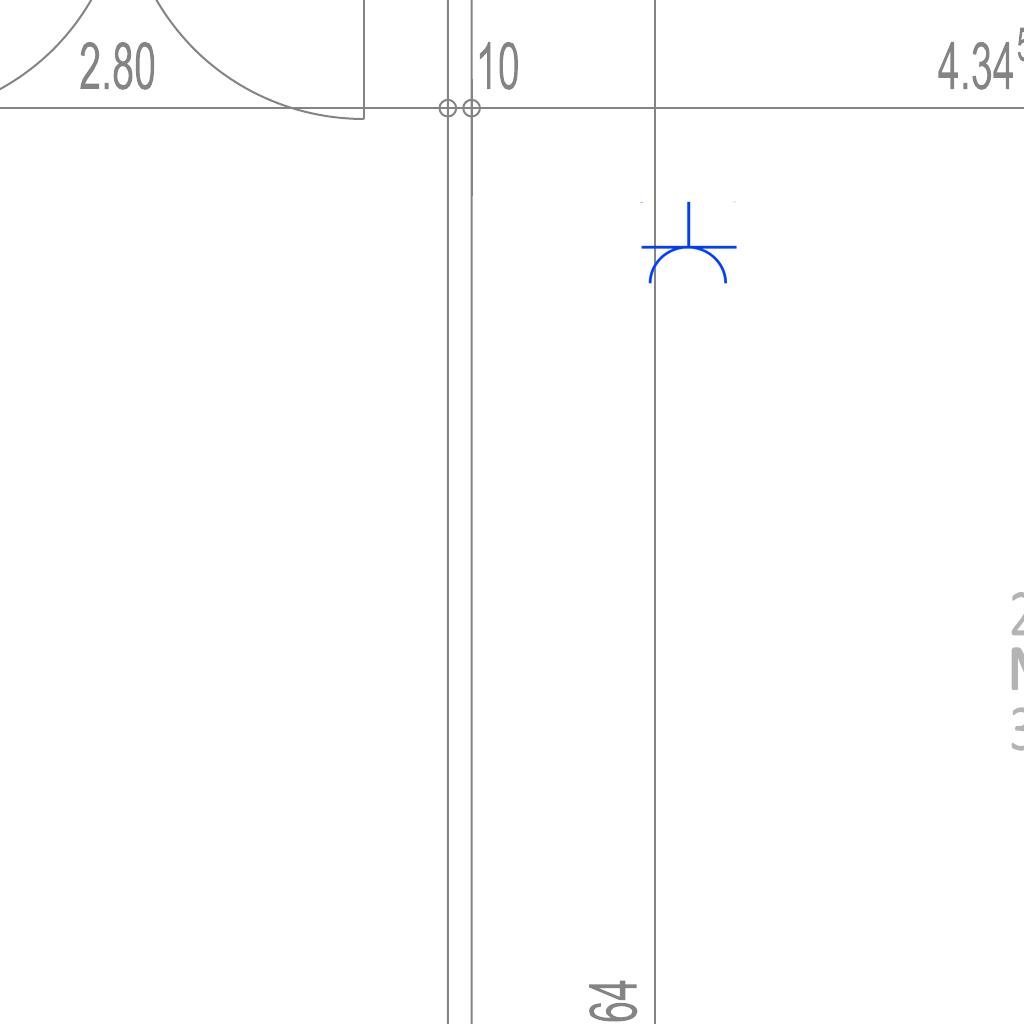Schukosteckdose_einfach: (638, 201, 738, 288)
